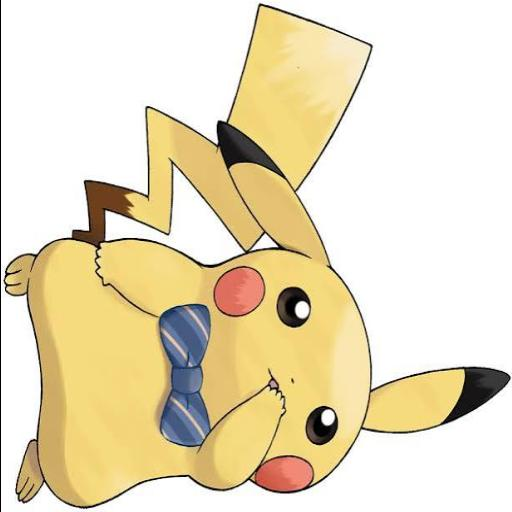Pikachu: (2, 4, 510, 510)
